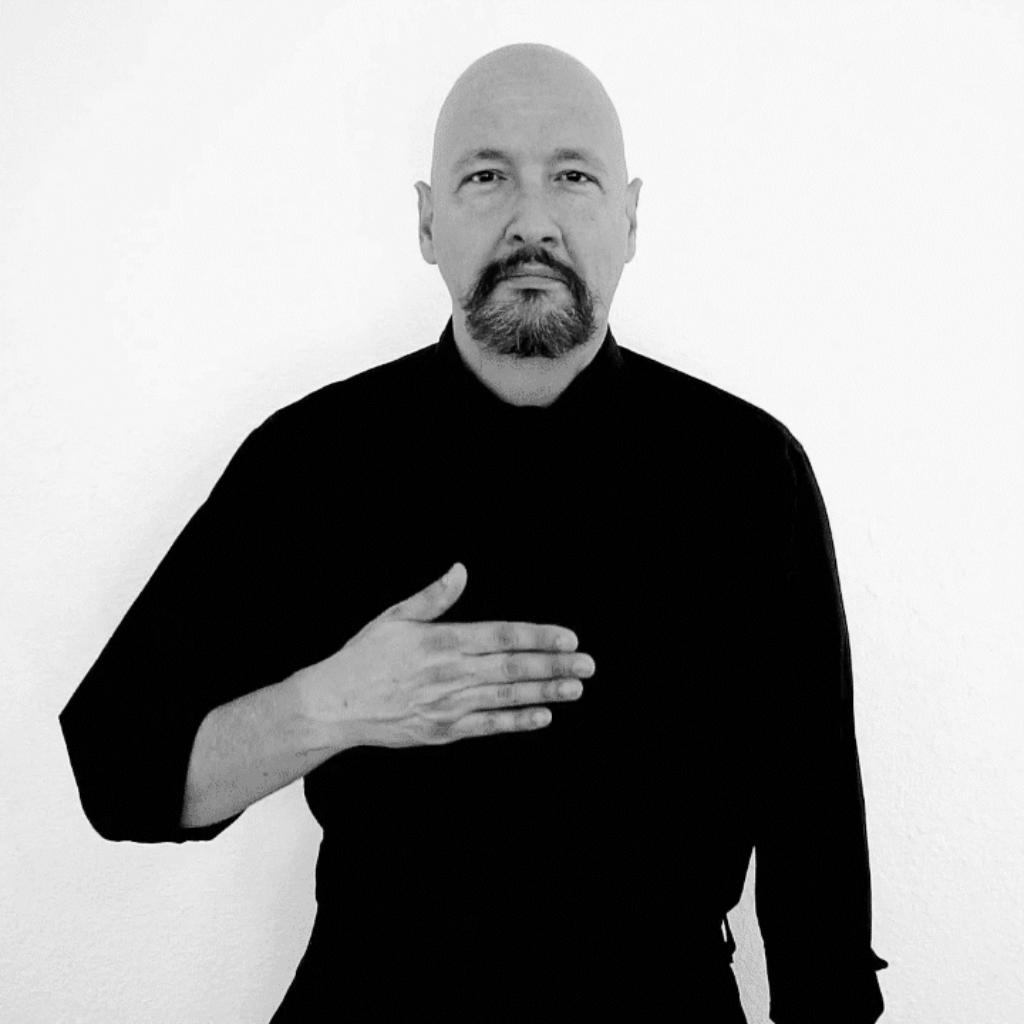my: (338, 563, 596, 749)
